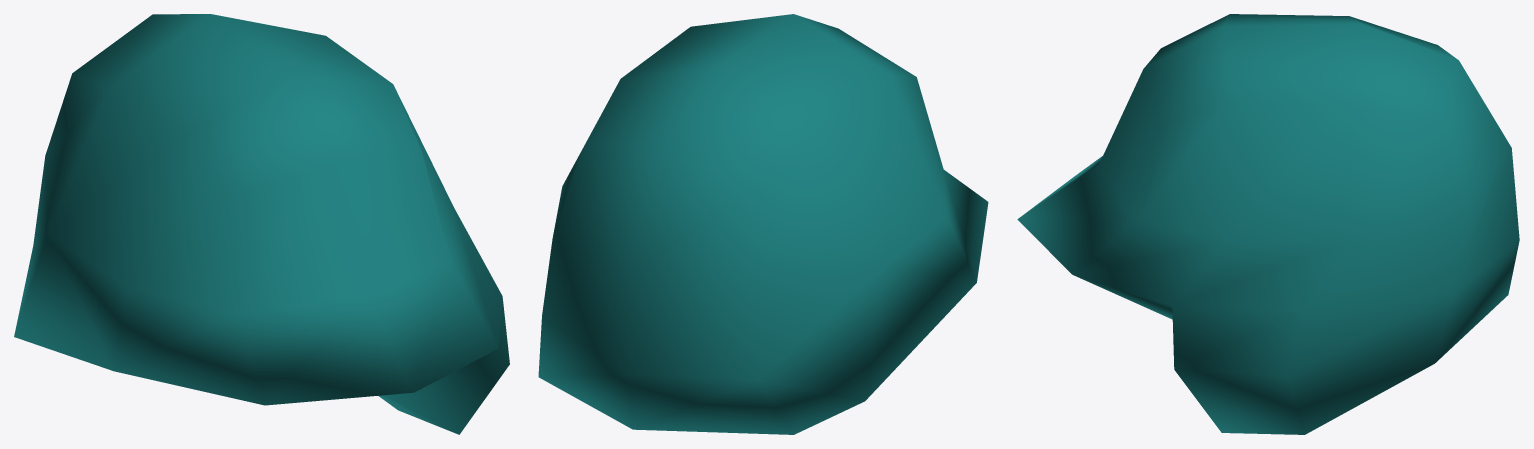
Rendered from baseball_helmet_collider.fbx.
The picture shows the model from 3 angles, left to right: view 1: azimuth 30°, elevation 25°; view 2: azimuth 150°, elevation 25°; view 3: azimuth 270°, elevation 25°; orthographic projection. The views are drawn at different scales.
Visible parts, largest first — view 1: baseball_helmet_collider; view 2: baseball_helmet_collider; view 3: baseball_helmet_collider.
Boxes of the visible parts, left/top/right/bottom form: baseball_helmet_collider: left=14, top=14, right=509, bottom=434; baseball_helmet_collider: left=538, top=14, right=988, bottom=434; baseball_helmet_collider: left=1017, top=14, right=1519, bottom=434.
Bounding box in the file's own units: 26.46 × 26.75 × 35.09.
